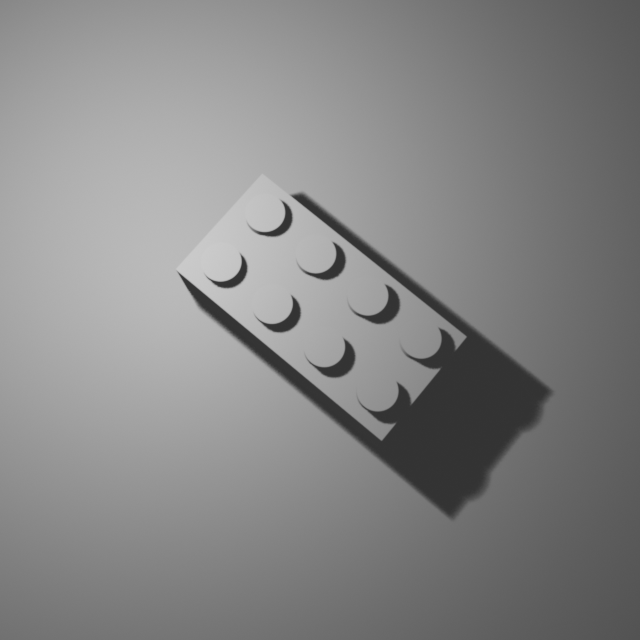lego_2x4: (174, 169, 469, 447)
